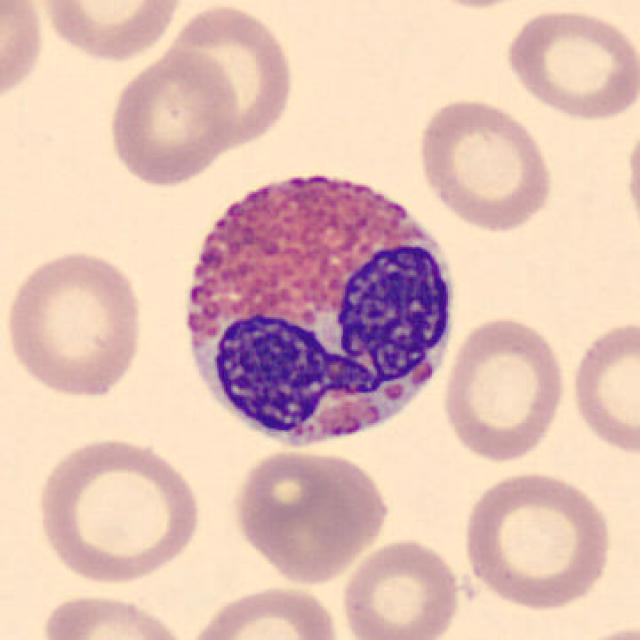Eosinophil: (164, 146, 468, 464)
RBC: (30, 432, 206, 587), (227, 446, 393, 585), (2, 245, 148, 402), (457, 467, 615, 612), (412, 93, 556, 234), (103, 44, 242, 189), (164, 2, 298, 152), (439, 312, 569, 466), (500, 3, 638, 124), (338, 536, 464, 640), (567, 314, 638, 460), (33, 0, 186, 63), (185, 582, 345, 640), (36, 589, 192, 640), (0, 0, 48, 109), (622, 113, 640, 243), (402, 0, 544, 12), (563, 620, 640, 640)
